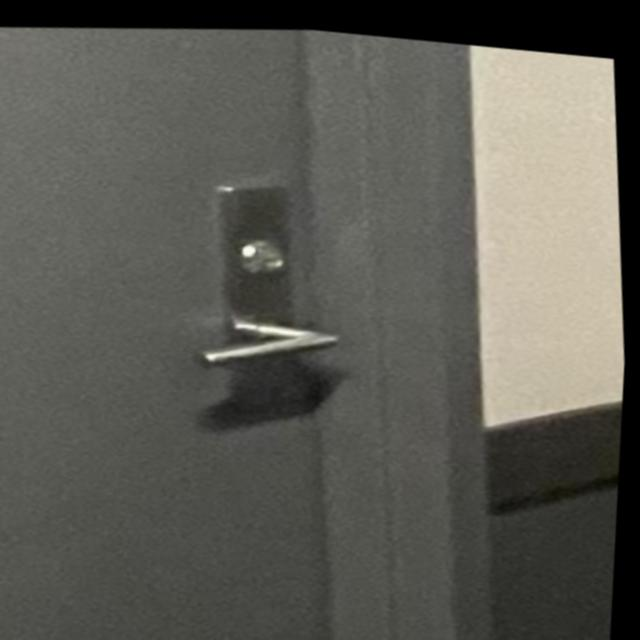door_handle: (177, 275, 368, 397)
